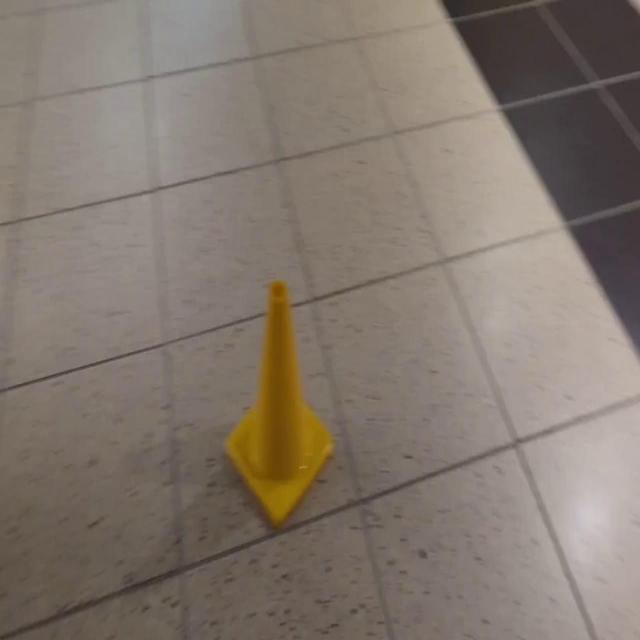frc_cone: (220, 280, 336, 536)
